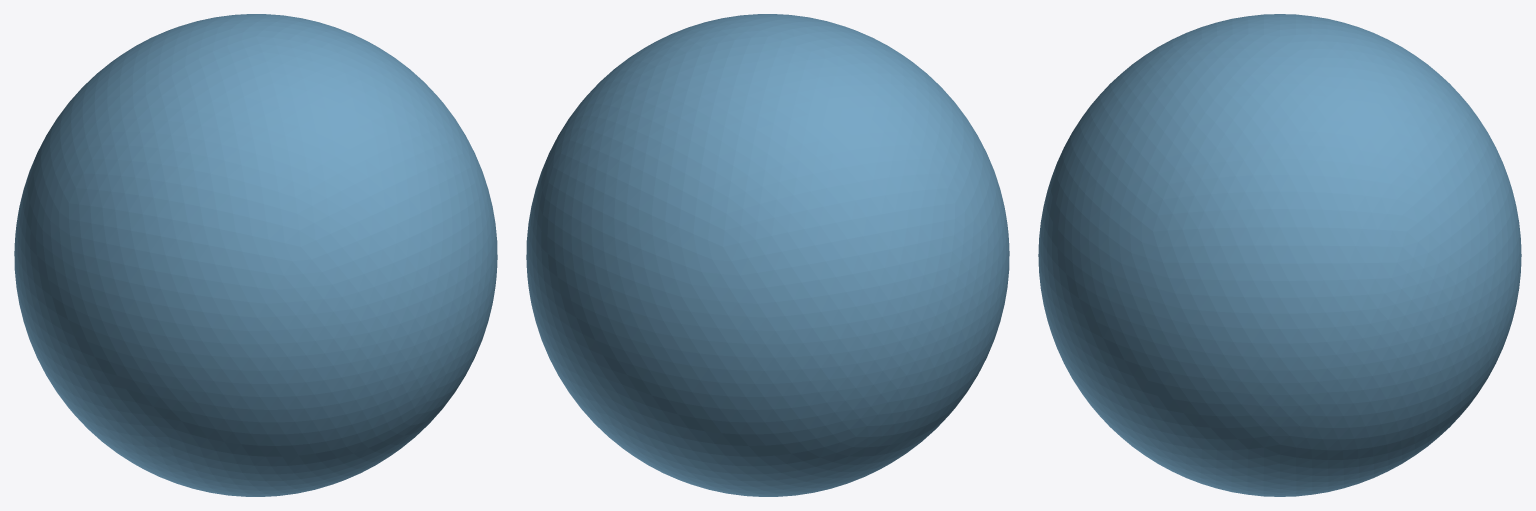
The model's file is circle_1_glb.glb.
3 views of the same model, side by side, from view 1: azimuth 30°, elevation 25°; view 2: azimuth 150°, elevation 25°; view 3: azimuth 270°, elevation 25° (orthographic).
Size of the model in its own units: 0.0153 by 0.0153 by 0.0153.
